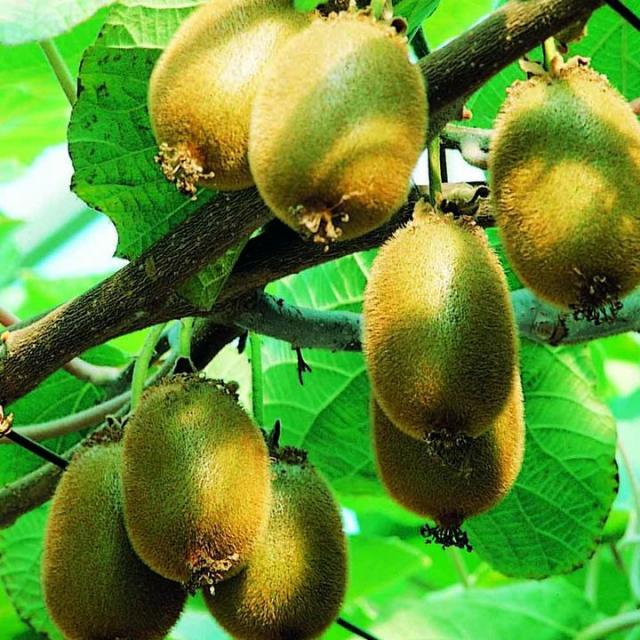kiwi: (137, 0, 444, 248), (489, 64, 640, 320), (366, 208, 518, 442), (126, 366, 272, 589)
